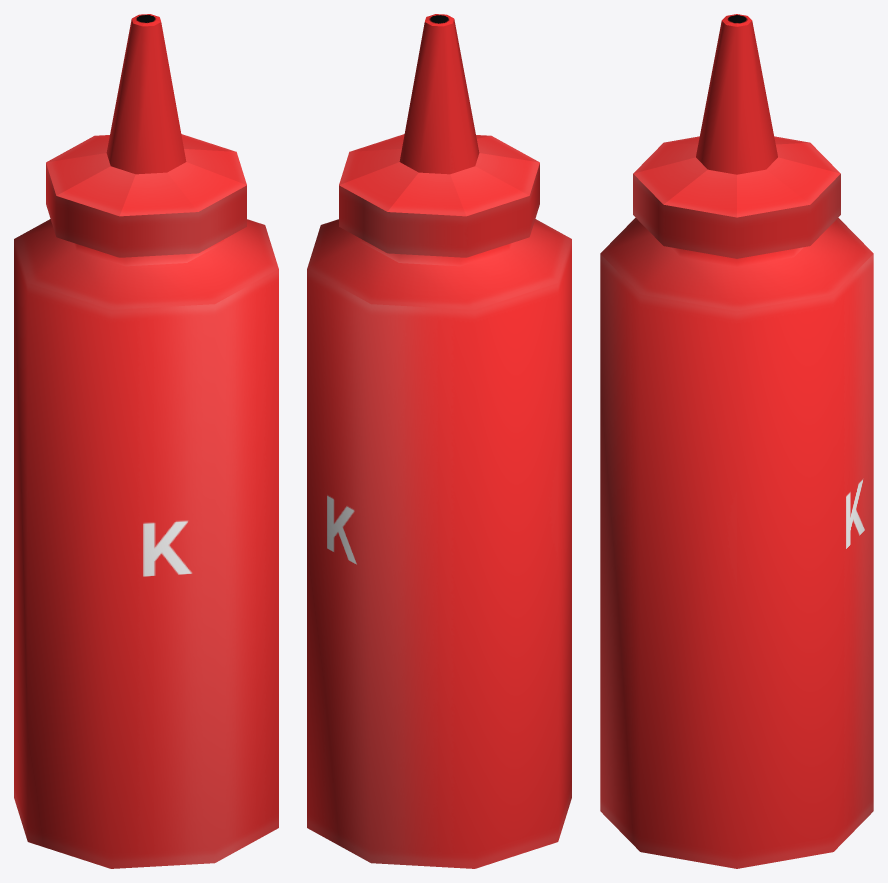
Rendered from fff_bottles_ketchup.FBX.
3 views of the same model, side by side, from view 1: azimuth 30°, elevation 25°; view 2: azimuth 150°, elevation 25°; view 3: azimuth 270°, elevation 25° (orthographic).
Visible parts, largest first — view 1: fff_bottles_ketchup; view 2: fff_bottles_ketchup; view 3: fff_bottles_ketchup.
Boxes of the visible parts, x1,y1,x2,y2 form: fff_bottles_ketchup: [14, 14, 278, 868]; fff_bottles_ketchup: [307, 14, 571, 868]; fff_bottles_ketchup: [600, 14, 873, 868].
Bounding box in the file's own units: 2.65 × 8.49 × 2.65.
